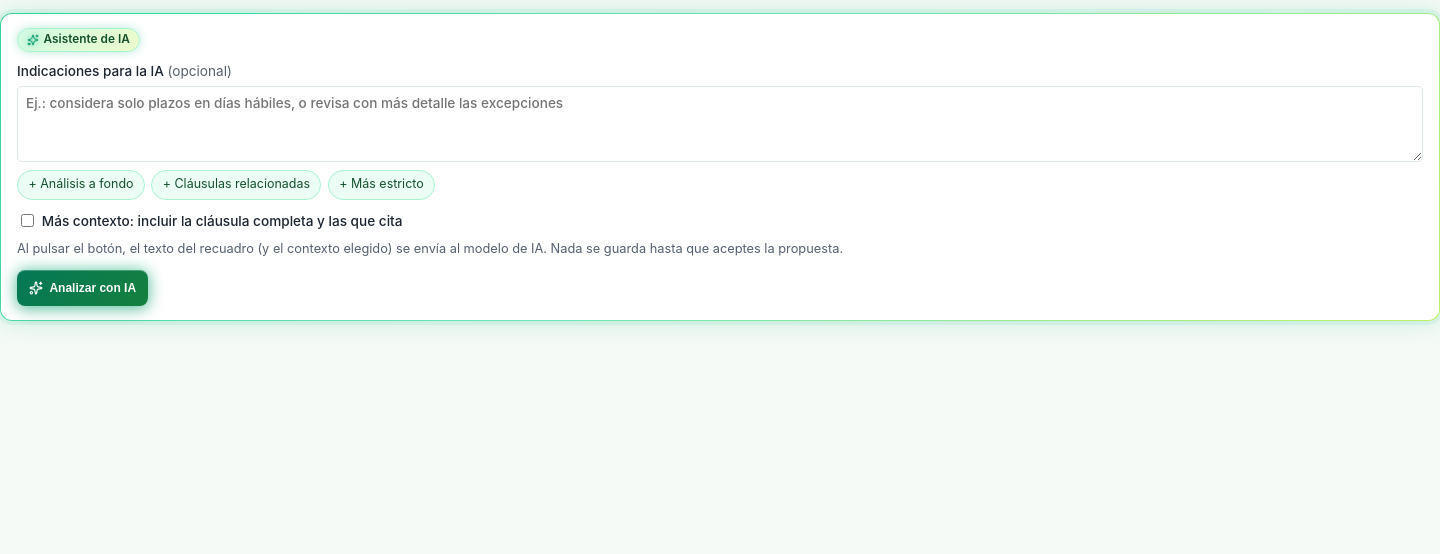
AiAssistant › avisa cuando el recuadro no tiene texto legible
Click the button "Analizar con IA": (83, 288) [17, 270, 148, 306]
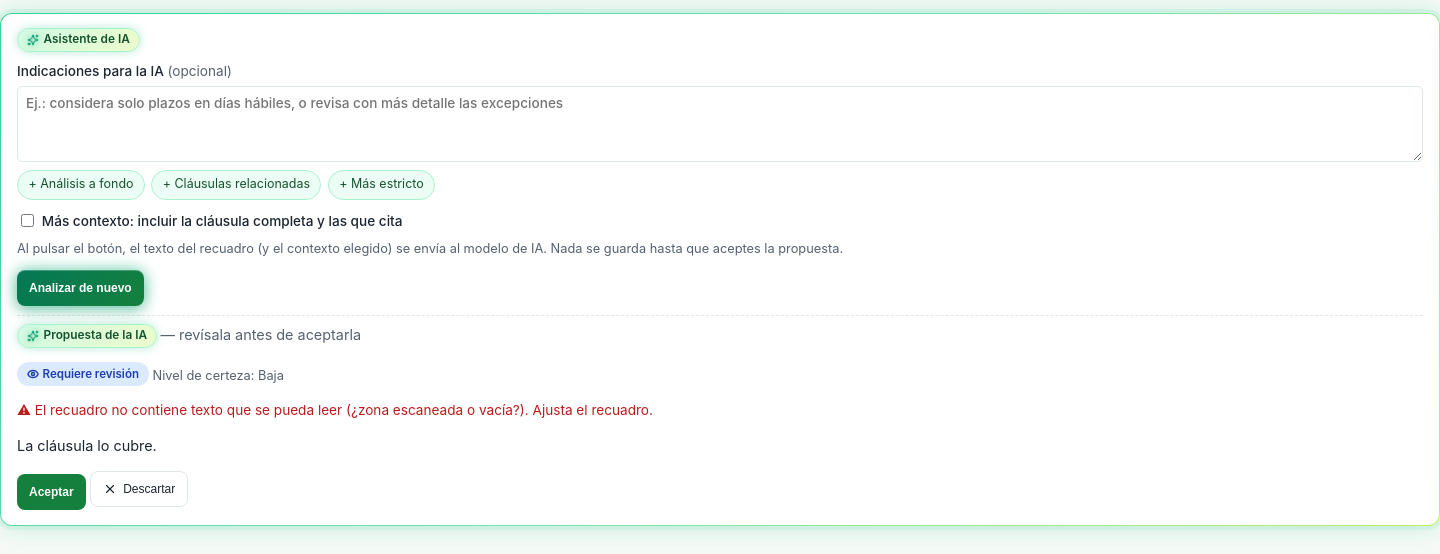
Check: the text "no contiene texto que se pueda leer" is shown, box [35, 402, 653, 418]
